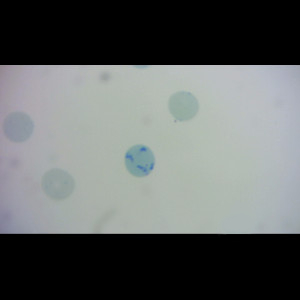aggregate reticulocyte: (123, 143, 156, 178)
punctate reticulocyte: (40, 167, 76, 201), (1, 111, 34, 143), (167, 90, 199, 122)
